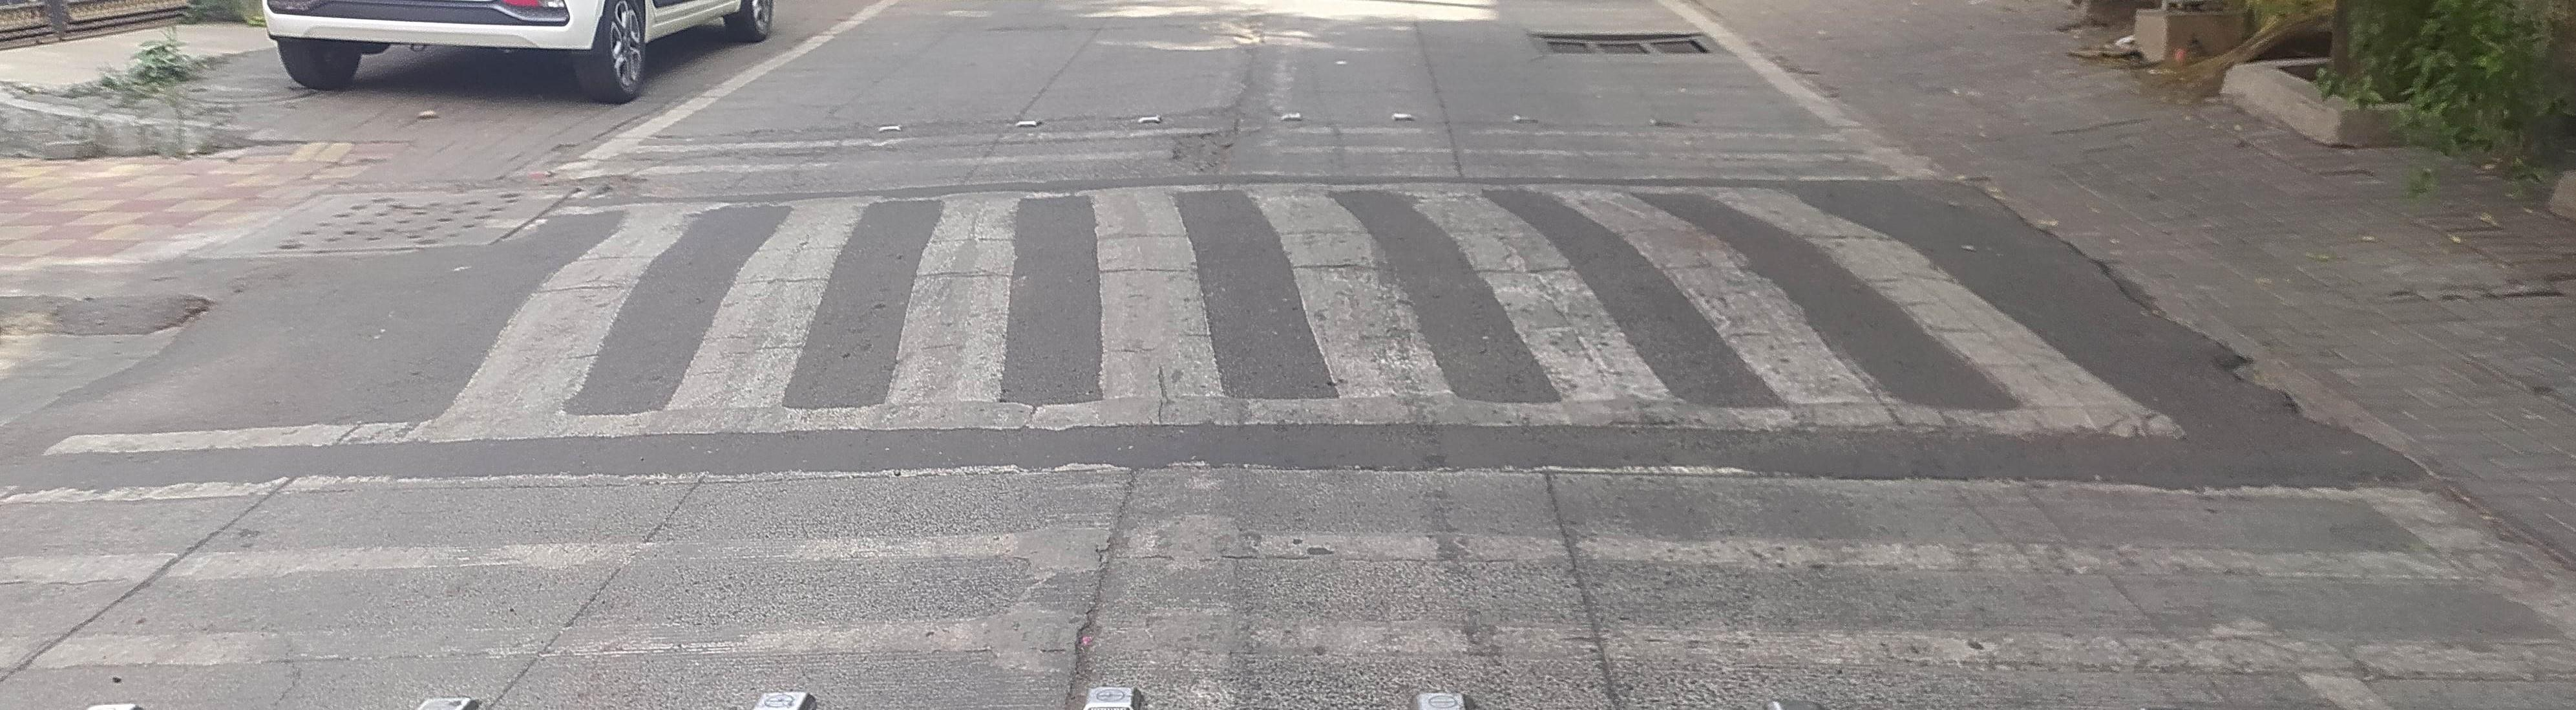speed-bump: (131, 173, 2391, 460)
